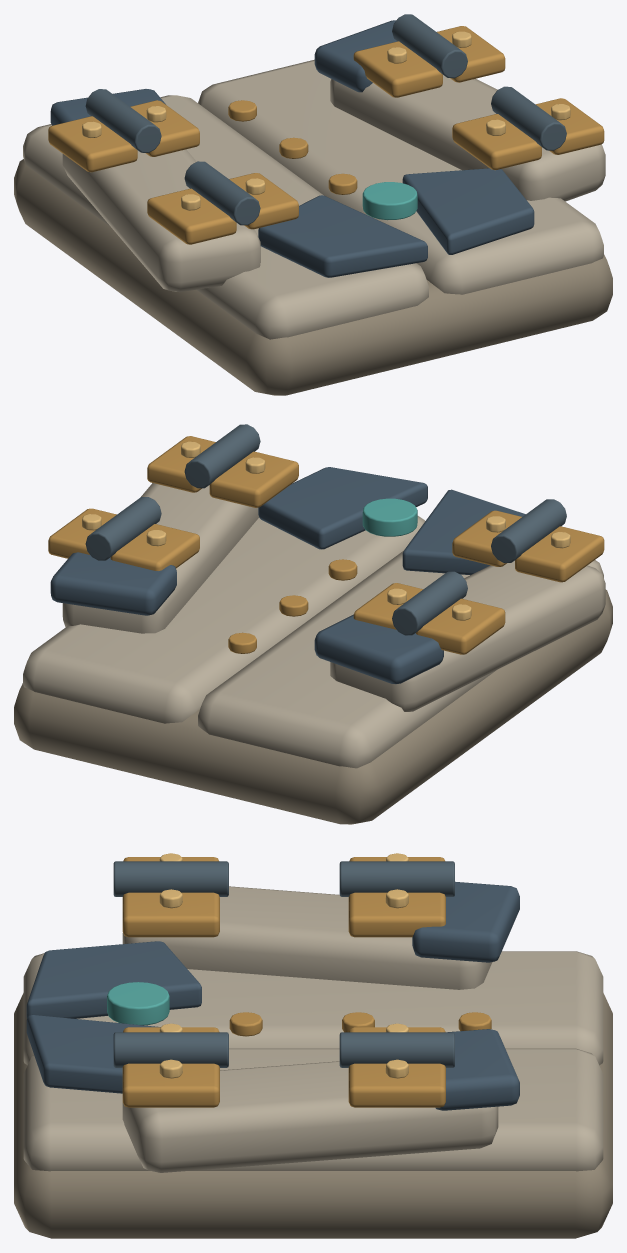
Rendered from counter_hinge.glb.
3 views of the same model, one above another, from view 1: azimuth 30°, elevation 25°; view 2: azimuth 150°, elevation 25°; view 3: azimuth 270°, elevation 25° (orthographic). The views are drawn at different scales.
Visible parts, largest first — view 1: SM_counter_hinge; view 2: SM_counter_hinge; view 3: SM_counter_hinge.
Part boxes in pixels (box(x1,y1,x2,y2)): SM_counter_hinge: box(14, 14, 612, 395); SM_counter_hinge: box(14, 424, 612, 824); SM_counter_hinge: box(14, 853, 612, 1238).
Size of the model in its own units: 0.3905 by 0.15 by 0.4.
